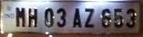character: (14, 6, 25, 27), (27, 7, 38, 28), (71, 6, 81, 28), (100, 7, 111, 27), (113, 7, 123, 28), (125, 7, 135, 28), (43, 7, 53, 27), (56, 7, 66, 27), (84, 7, 94, 27)
